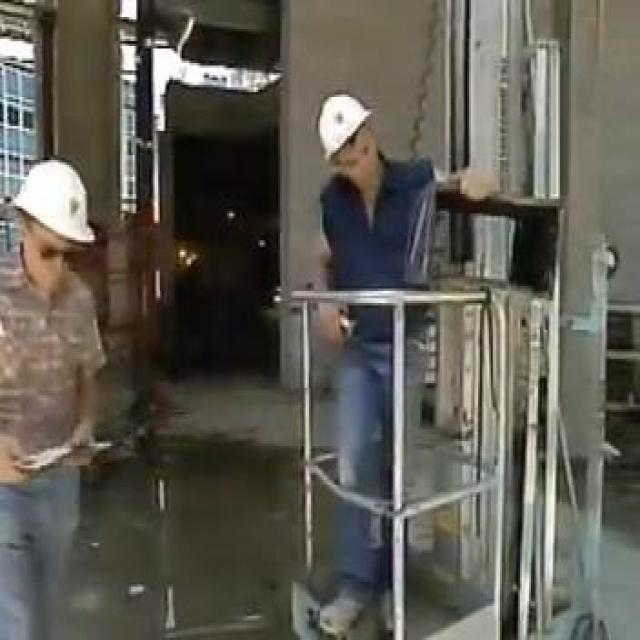safety_helmet: (5, 150, 103, 256), (307, 82, 381, 164)
